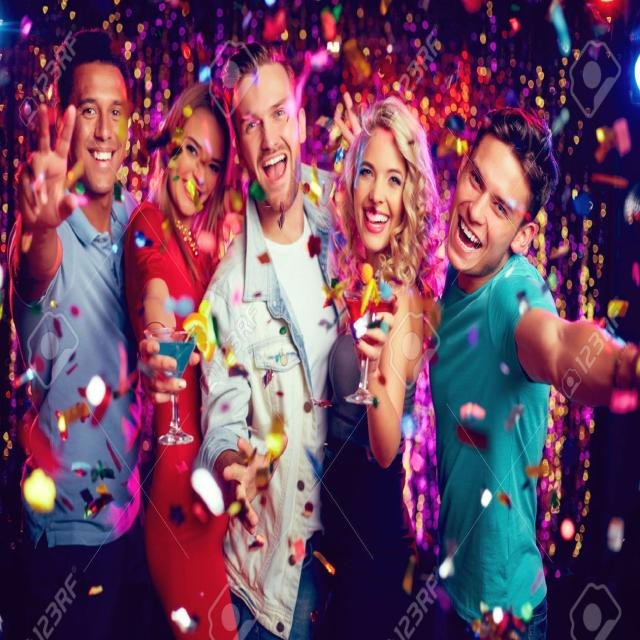body: (420, 95, 640, 639), (7, 21, 163, 639), (197, 42, 352, 640), (120, 79, 241, 640), (322, 93, 440, 639)
